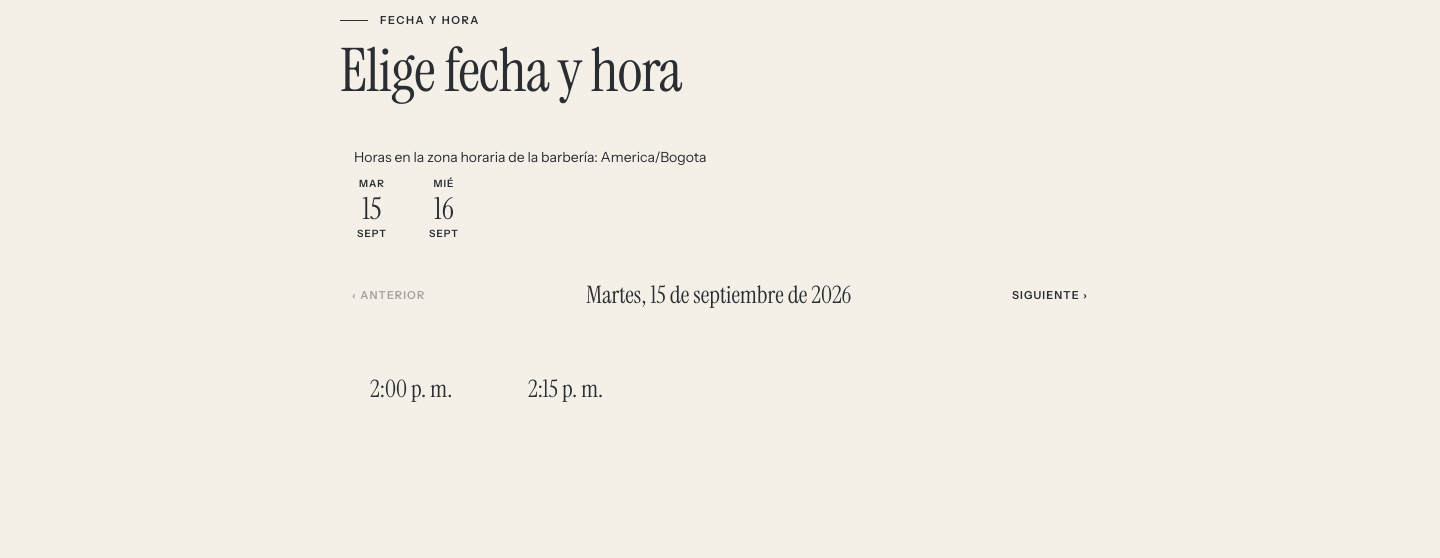
Test case: PublicAvailabilityPage › shows the "Continuar" CTA to HU-096 only after selecting a slot, carrying the full context
Click the radio button labelled "2:00 p. m.".
click(411, 389)  # box [370,373,452,404]
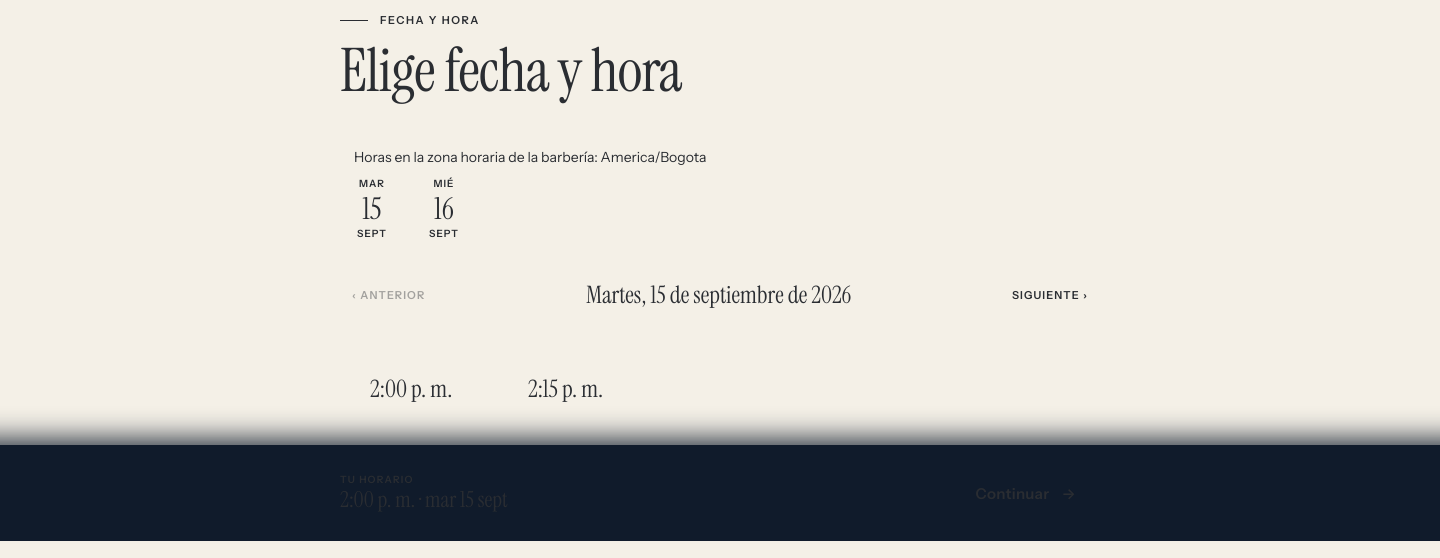
Check: the link "Continuar →" is shown, box [976,484,1076,503]
